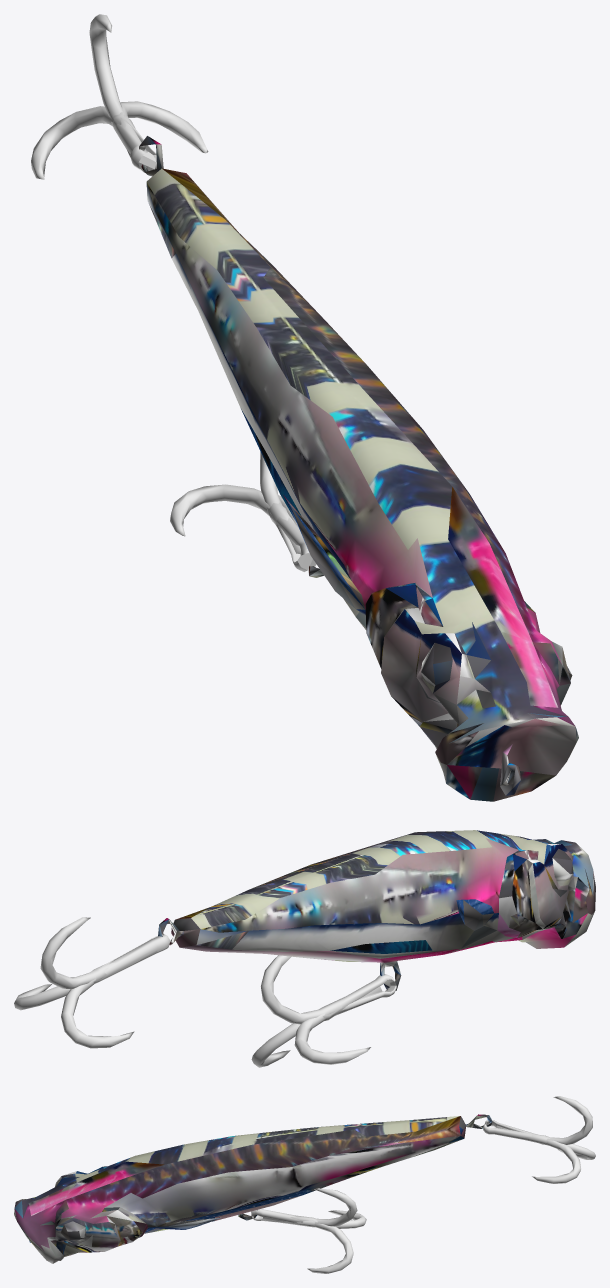
Rendered from Popper Lure.fbx.
3 renders of one model, top to bottom at view 1: azimuth 30°, elevation 25°; view 2: azimuth 150°, elevation 25°; view 3: azimuth 270°, elevation 25°, orthographic. The views are drawn at different scales.
Parts seen in each view (by area): view 1: geometry_0, BézierCurve.002, BézierCurve; view 2: geometry_0, BézierCurve.002, BézierCurve; view 3: geometry_0, BézierCurve, BézierCurve.002.
Boxes of the visible parts, left/top/right/bottom form: geometry_0: left=139, top=136, right=578, bottom=801; BézierCurve.002: left=31, top=14, right=208, bottom=179; BézierCurve: left=170, top=451, right=316, bottom=571; geometry_0: left=158, top=830, right=595, bottom=990; BézierCurve.002: left=14, top=917, right=170, bottom=1048; BézierCurve: left=251, top=955, right=396, bottom=1067; geometry_0: left=14, top=1114, right=492, bottom=1263; BézierCurve: left=251, top=1188, right=366, bottom=1273; BézierCurve.002: left=483, top=1096, right=595, bottom=1183.
Size of the model in its own units: 278 by 387 by 1071.
